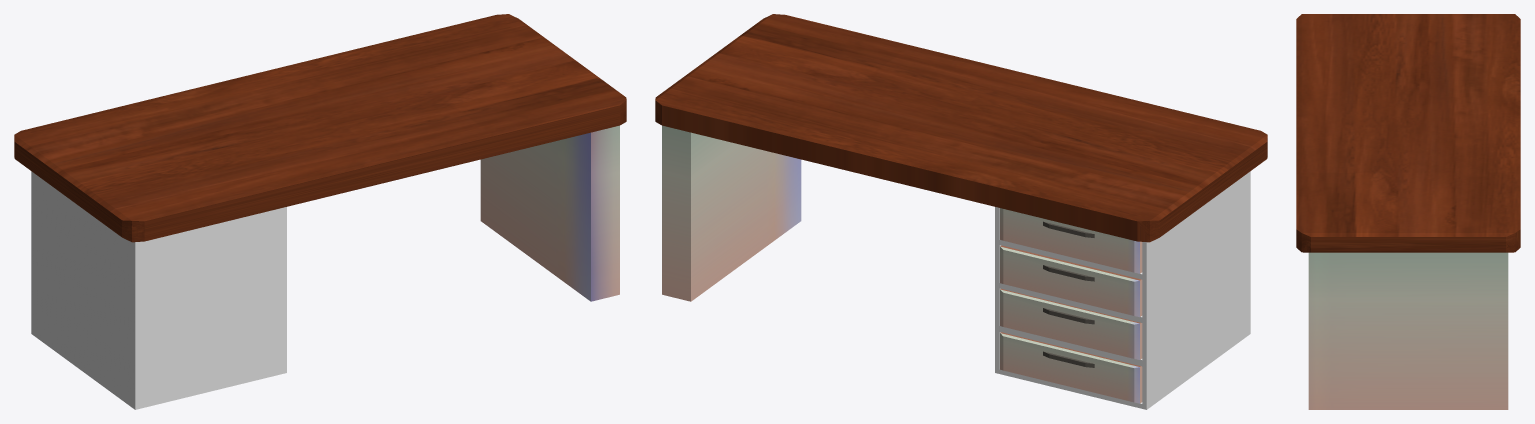
The model's file is table_lo.fbx.
3 renders of one model, left to right at view 1: azimuth 30°, elevation 25°; view 2: azimuth 150°, elevation 25°; view 3: azimuth 270°, elevation 25°, orthographic. The views are drawn at different scales.
Parts seen in each view (by area): view 1: table; view 2: table, drawer1, drawer3, drawer2, drawer; view 3: table.
Part boxes in pixels (x1,y1,x2,y2): table: [14, 14, 626, 409]; table: [655, 14, 1267, 409]; drawer1: [1000, 245, 1142, 317]; drawer3: [1000, 332, 1142, 403]; drawer2: [1000, 288, 1142, 359]; drawer: [1000, 208, 1142, 273]; table: [1296, 14, 1520, 409].
Size of the model in its own units: 182 by 67.97 by 77.51.
Materials: 1 (1 with a texture image).
